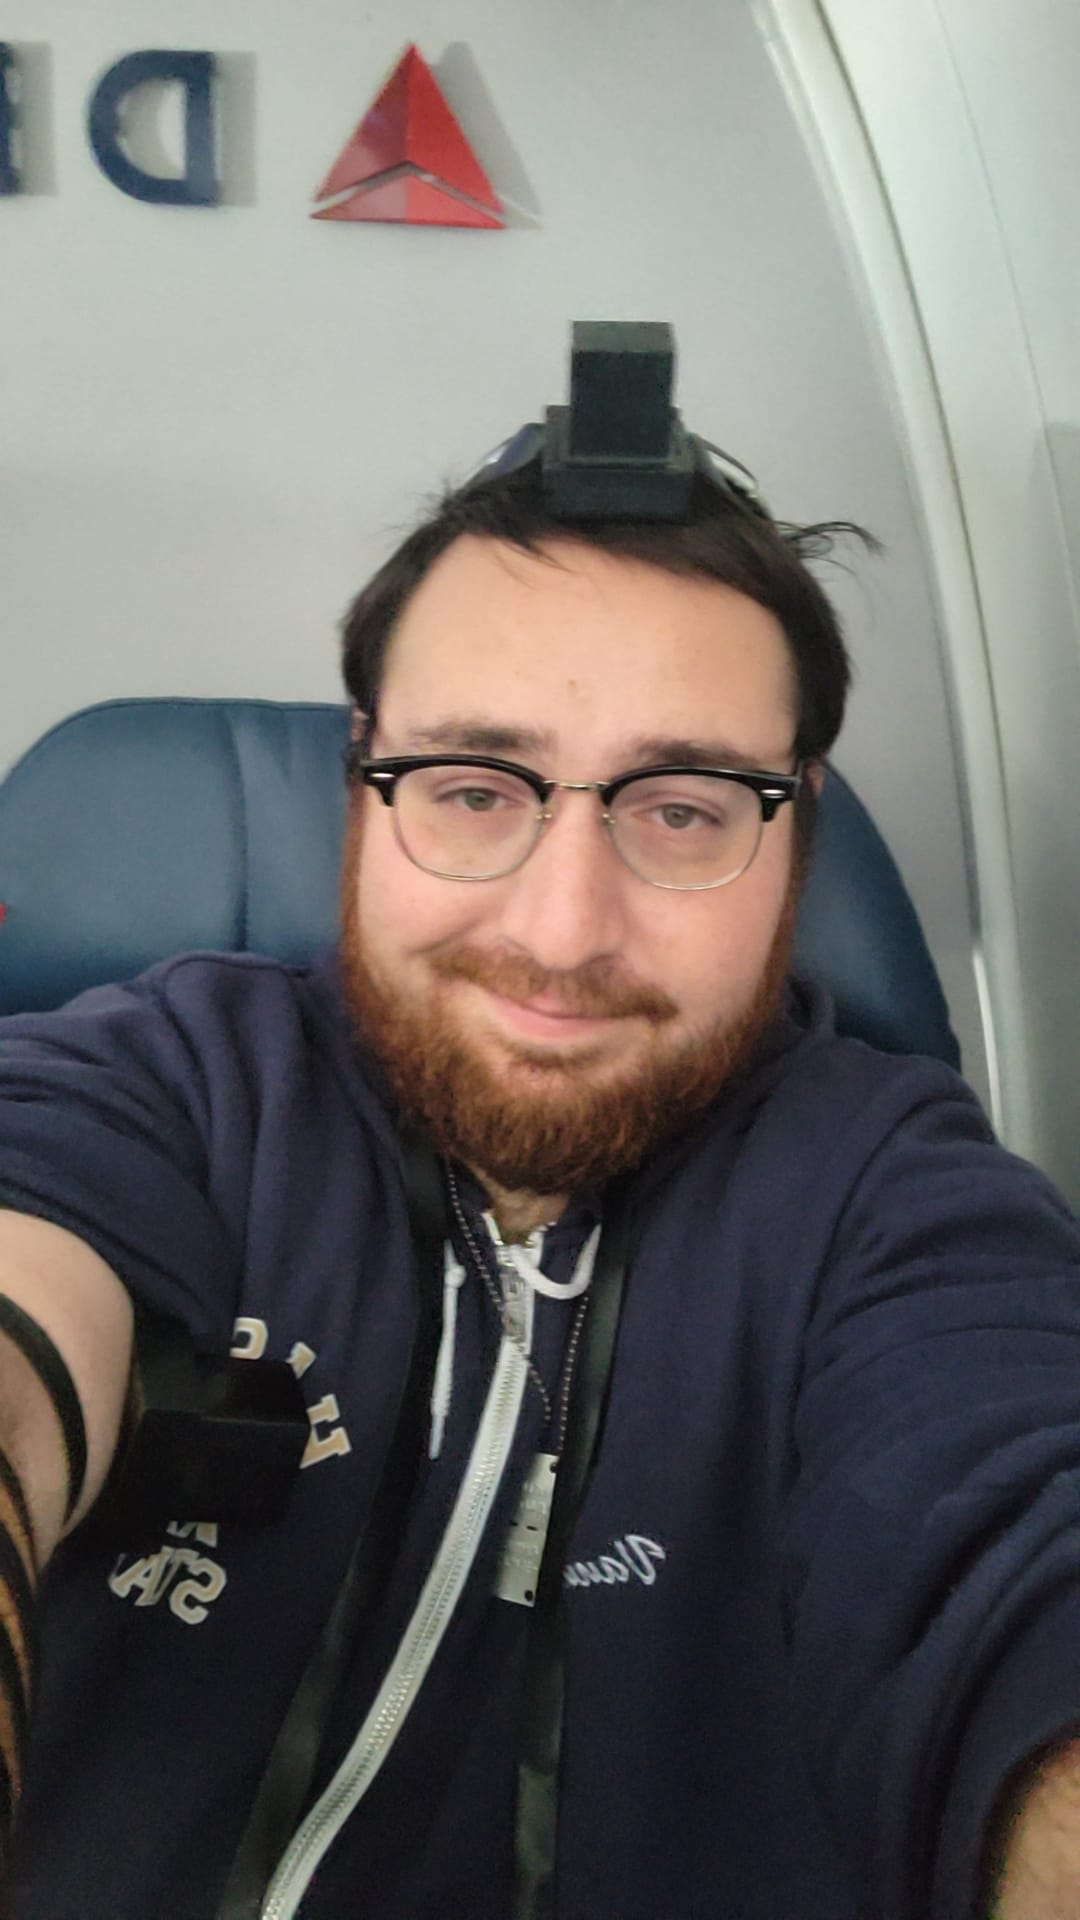tefillin: (534, 318, 696, 510)
